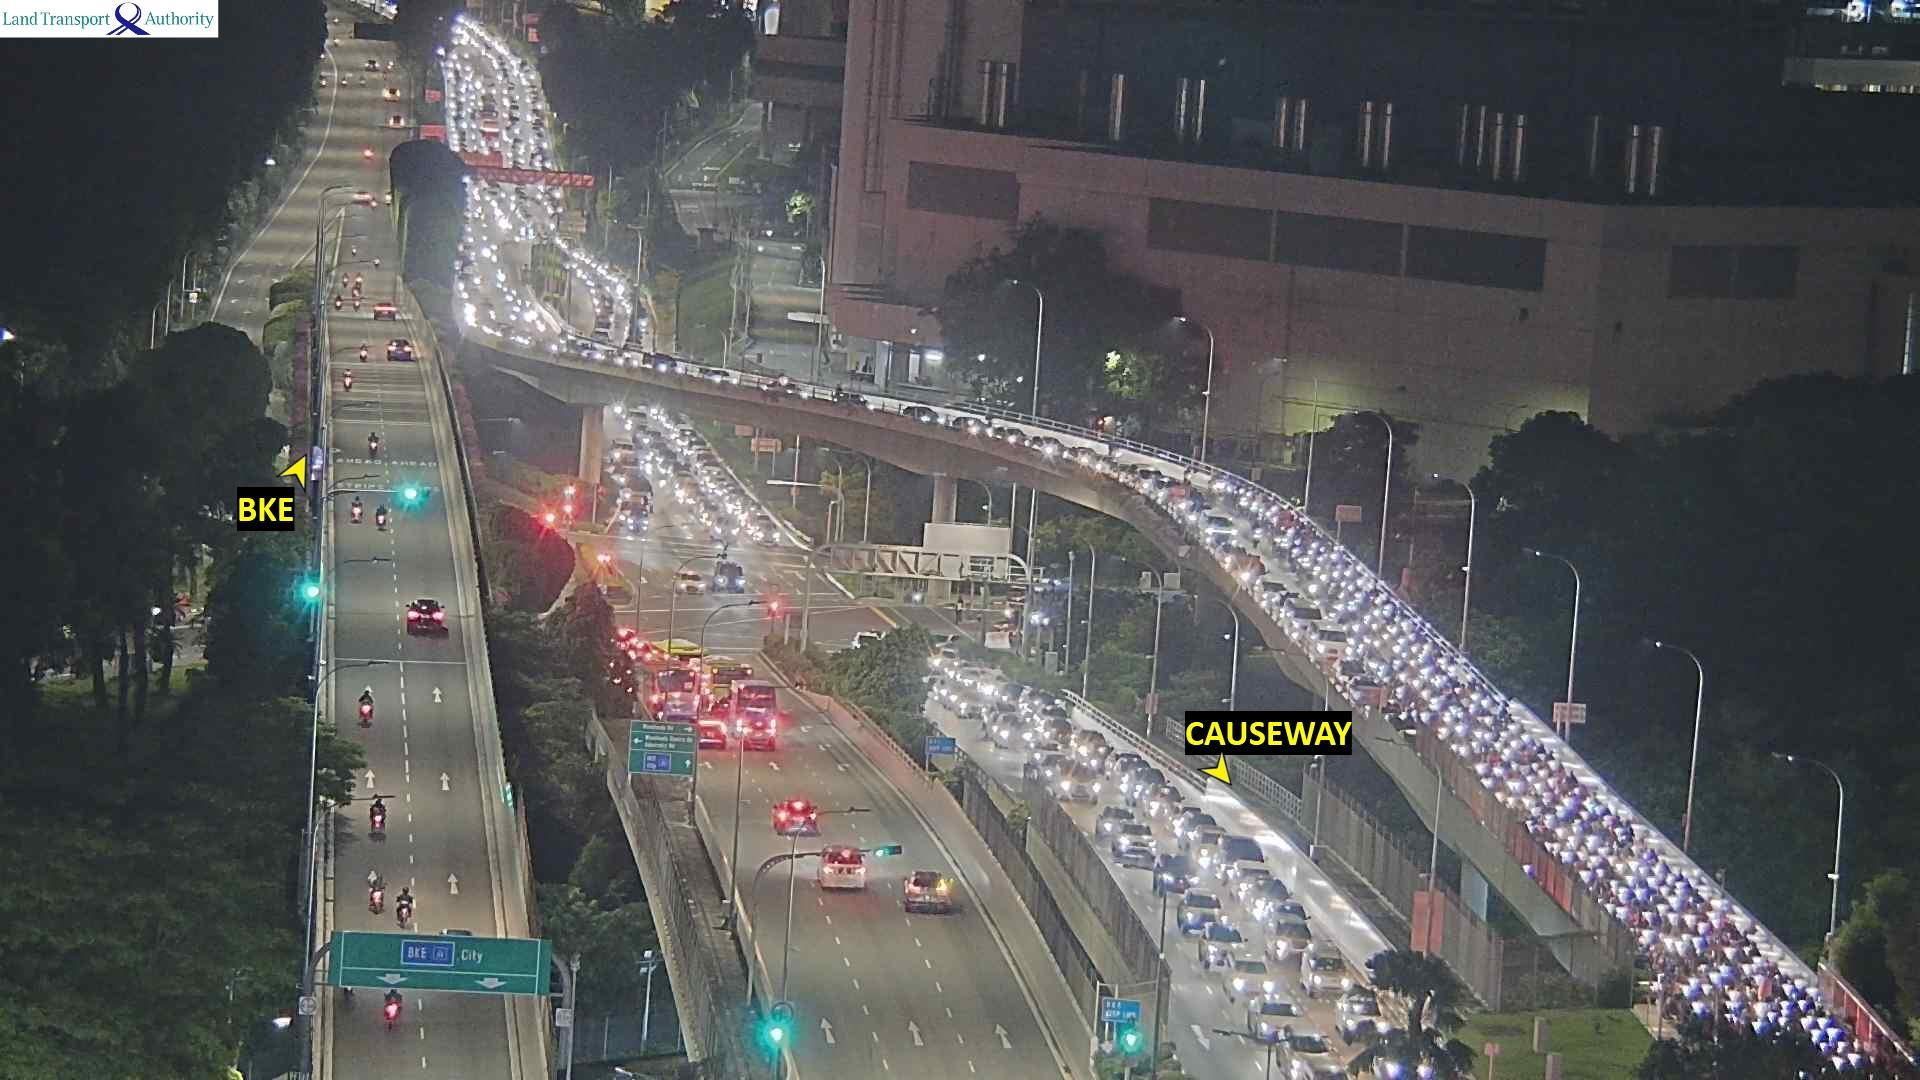vehicle-causeway-johor: (1275, 1033, 1350, 1079), (1249, 996, 1303, 1043), (1300, 940, 1345, 997), (1199, 924, 1244, 969), (1224, 956, 1267, 1000), (1266, 920, 1312, 961), (1155, 851, 1199, 893), (1180, 889, 1220, 932), (1246, 880, 1287, 914), (1192, 825, 1225, 868), (1060, 767, 1100, 802), (1195, 516, 1236, 543), (1110, 824, 1154, 849), (1129, 770, 1164, 799), (944, 413, 988, 433), (754, 375, 798, 394), (696, 369, 740, 385), (905, 405, 942, 423), (1147, 472, 1178, 493), (956, 695, 982, 717), (650, 357, 684, 373), (1056, 444, 1087, 462), (994, 715, 1007, 746)
vehicle-causeway-singapore: (903, 868, 959, 914), (824, 847, 877, 890), (787, 802, 827, 839), (409, 597, 450, 632), (355, 692, 373, 728), (371, 795, 385, 840), (386, 994, 406, 1026), (368, 870, 384, 910), (386, 340, 411, 361), (405, 897, 422, 926), (373, 303, 396, 322), (339, 369, 352, 392), (352, 496, 363, 524), (367, 433, 380, 454), (377, 504, 386, 530), (344, 986, 355, 1004), (360, 343, 368, 360)
